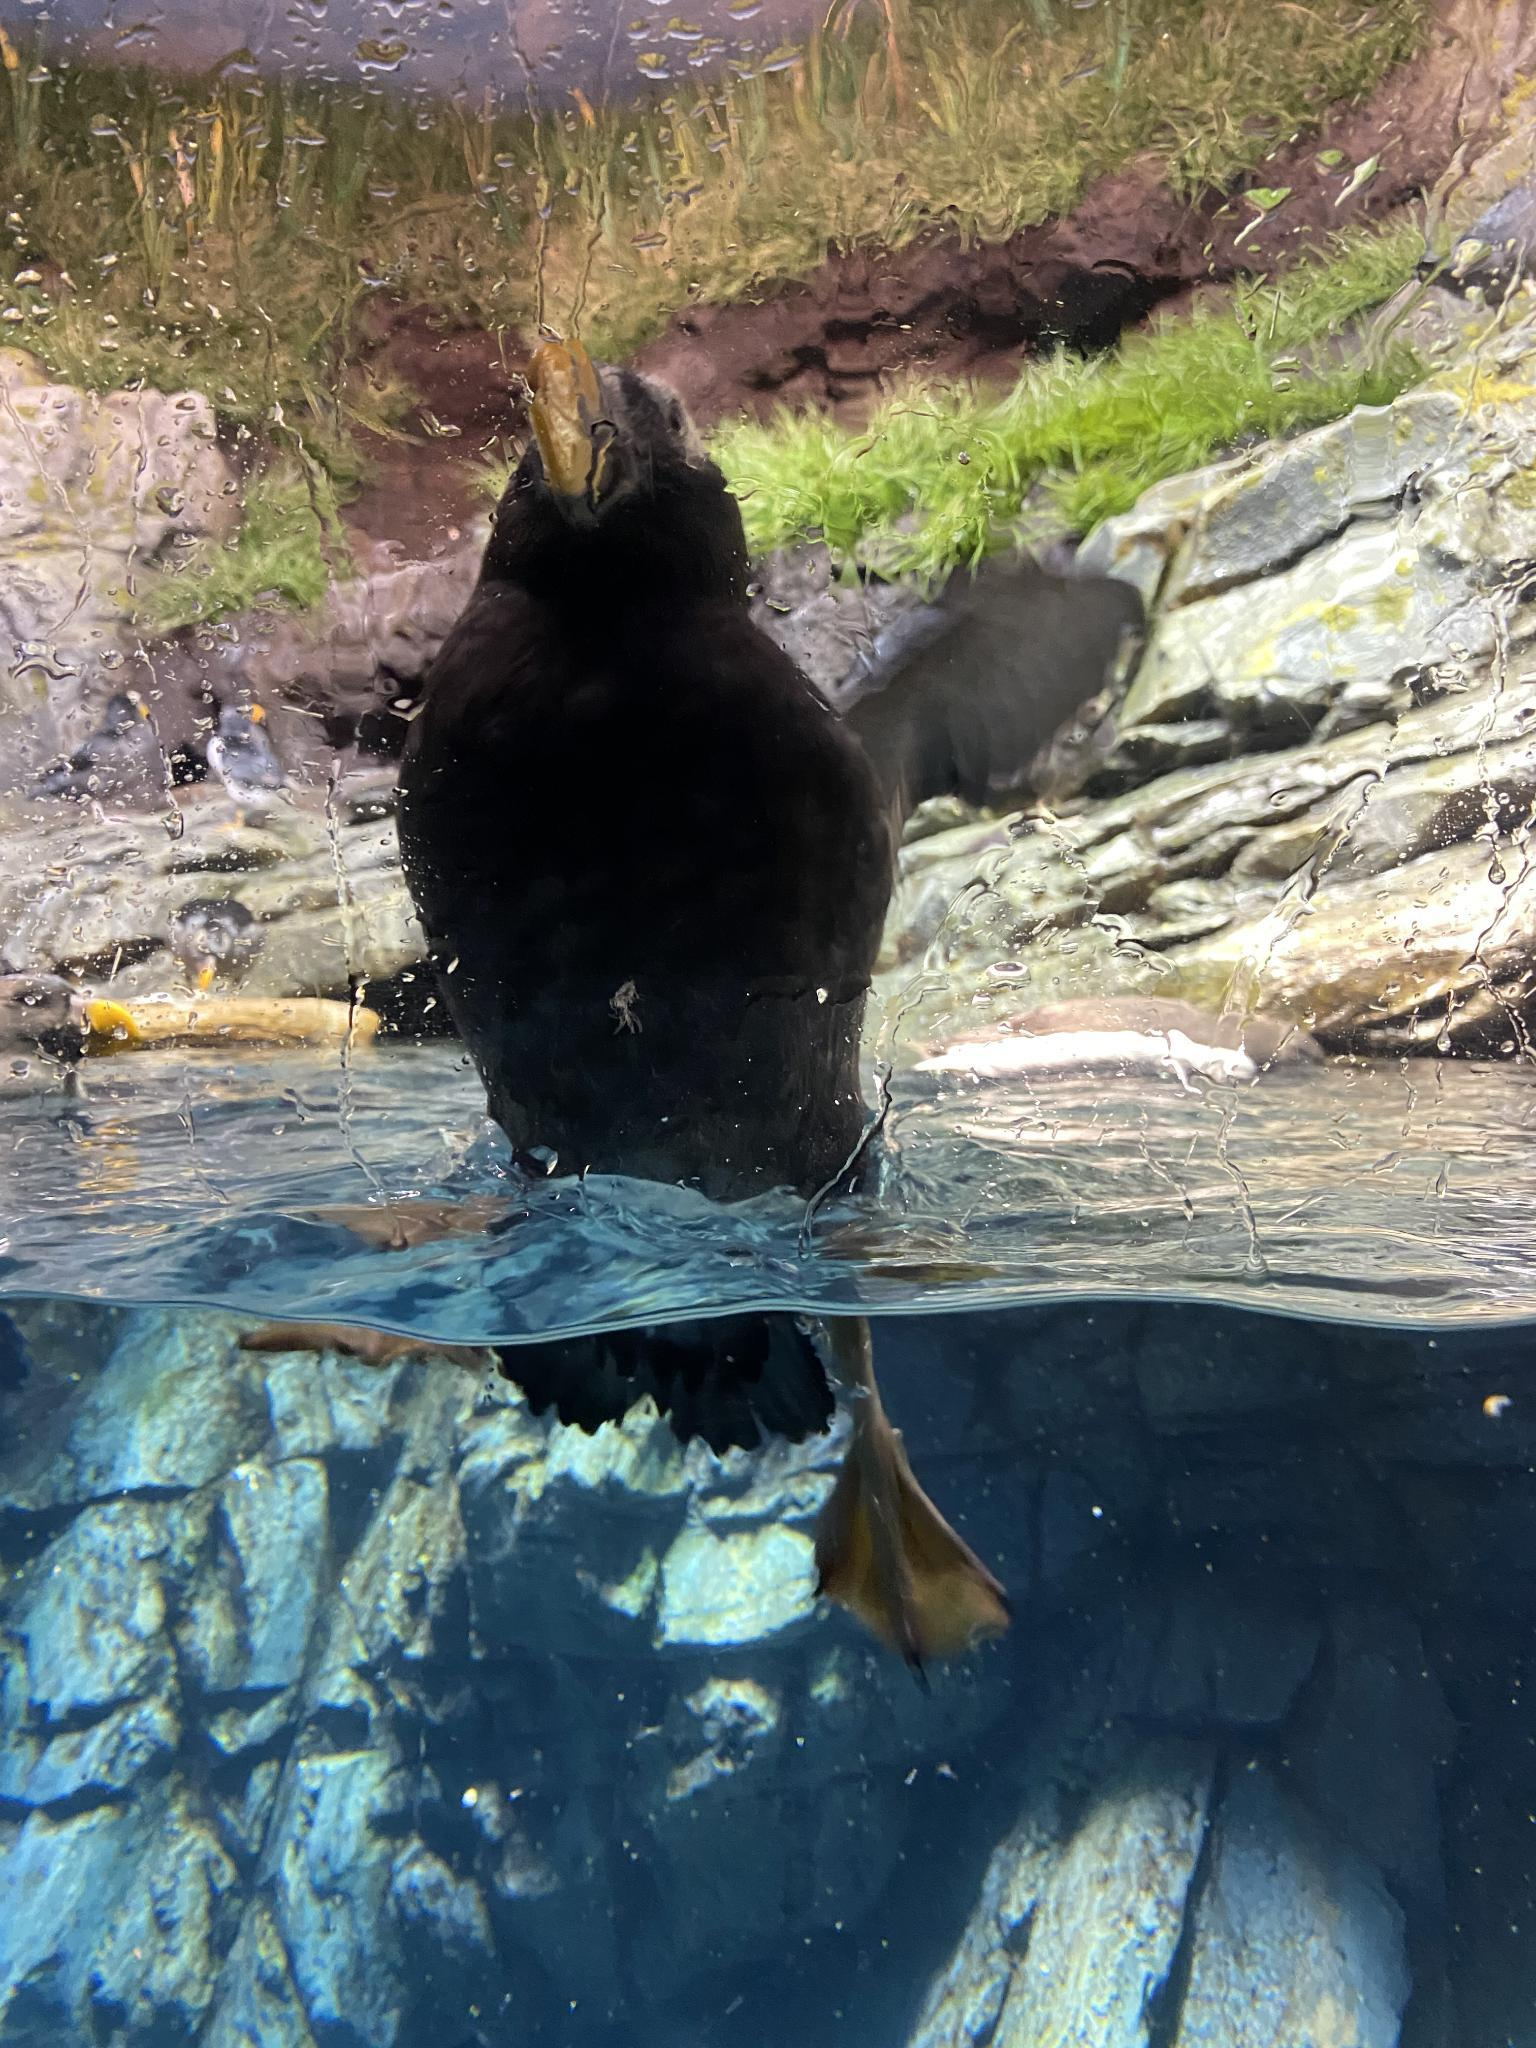puffin: (369, 332, 933, 1201)
